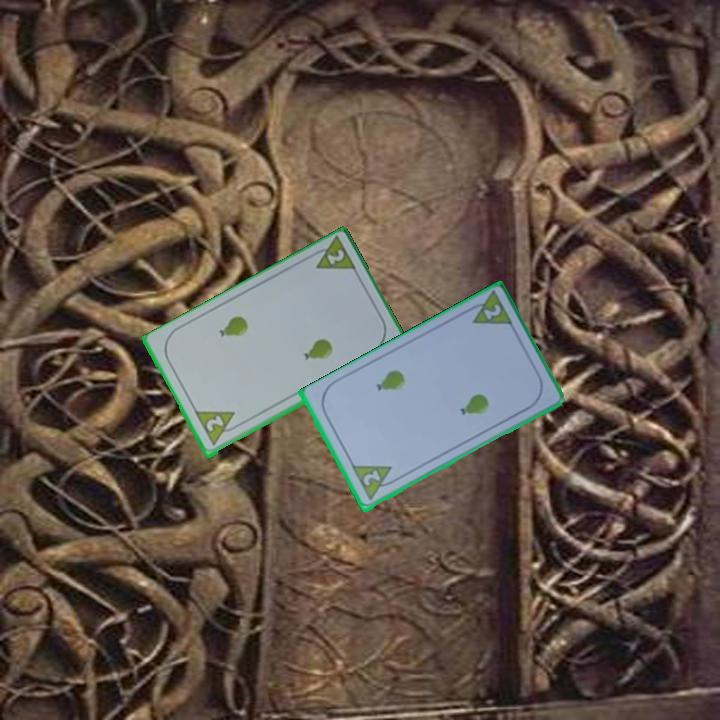2p: (305, 234, 360, 275), (349, 462, 400, 504), (202, 412, 227, 435), (480, 301, 504, 323)
